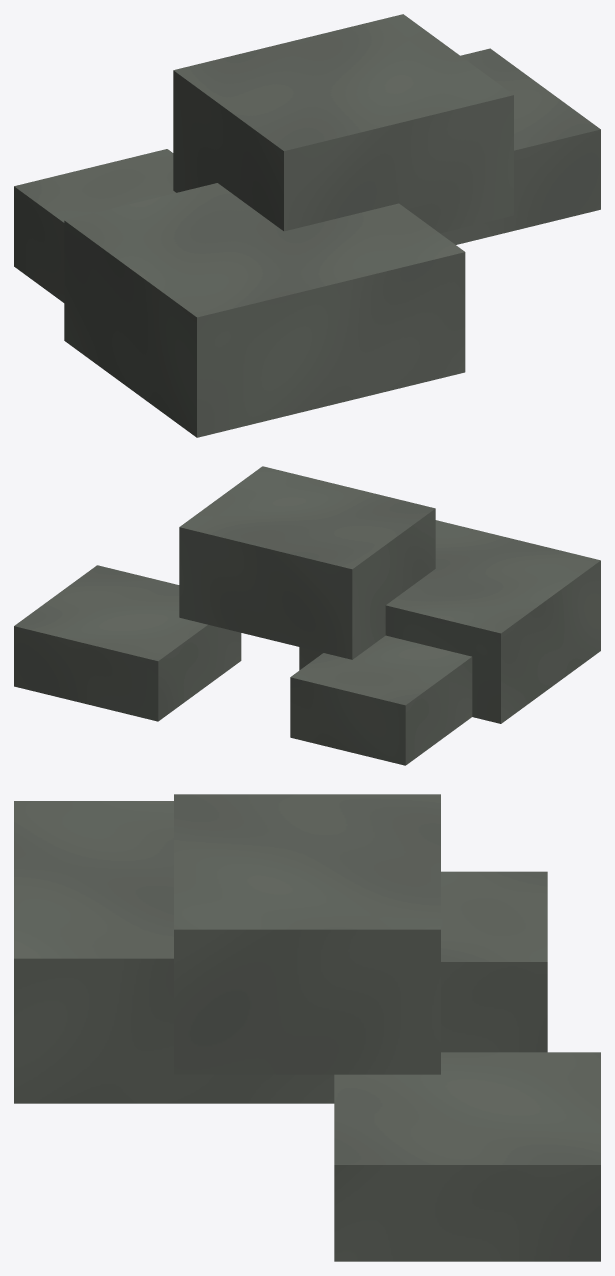
The model's file is RUBBLE_MEDIUM.glb.
3 renders of one model, top to bottom at view 1: azimuth 30°, elevation 25°; view 2: azimuth 150°, elevation 25°; view 3: azimuth 270°, elevation 25°, orthographic. The views are drawn at different scales.
Parts seen in each view (by area): view 1: RUBBLE_MEDIUM; view 2: RUBBLE_MEDIUM; view 3: RUBBLE_MEDIUM.
Boxes of the visible parts, x1,y1,x2,y2 form: RUBBLE_MEDIUM: (14, 14, 600, 437); RUBBLE_MEDIUM: (14, 466, 600, 765); RUBBLE_MEDIUM: (14, 794, 600, 1261).
Size of the model in its own units: 1.75 by 0.625 by 1.38.
1 material, 1 textured.
